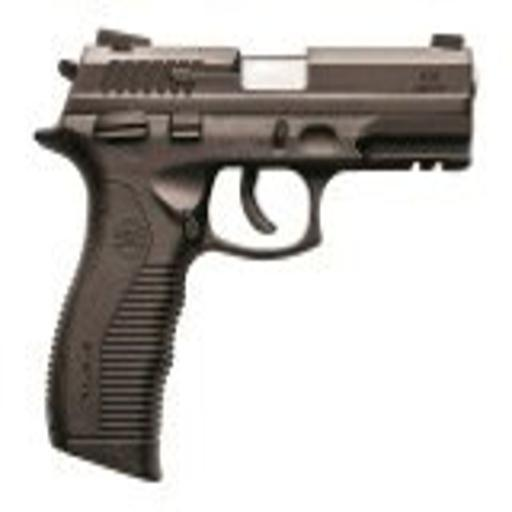Handgun: (31, 24, 479, 481)
